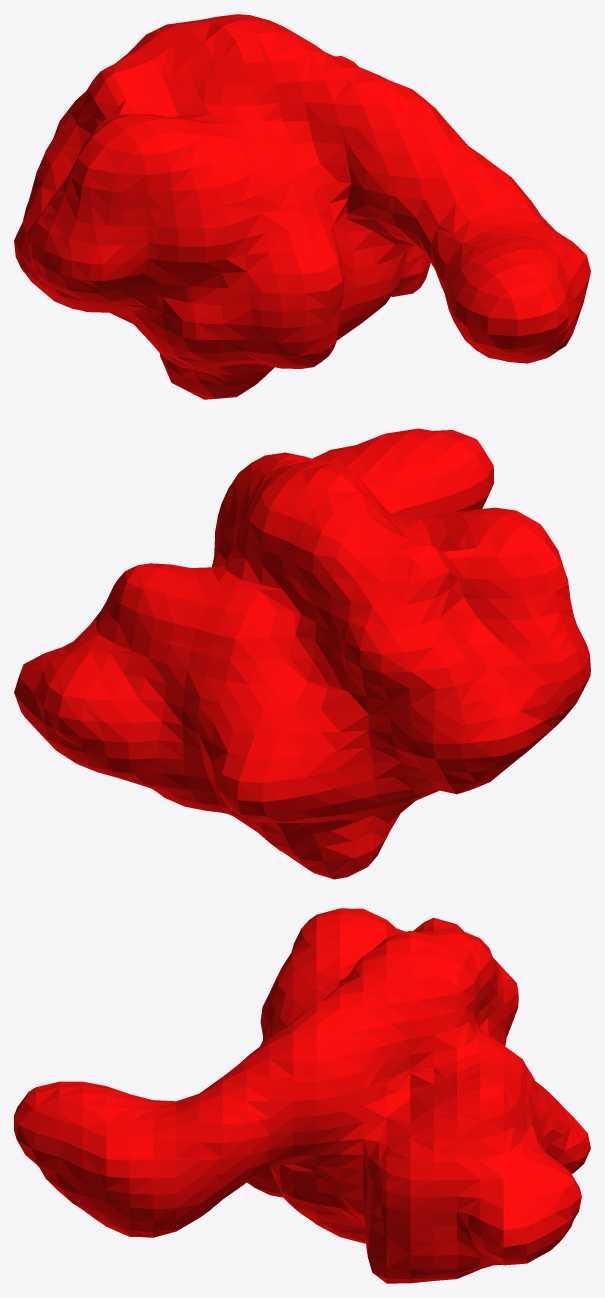
The model's file is ubiJ_coarse.dae.
3 views of the same model, one above another, from view 1: azimuth 30°, elevation 25°; view 2: azimuth 150°, elevation 25°; view 3: azimuth 270°, elevation 25° (orthographic). The views are drawn at different scales.
Parts seen in each view (by area): view 1: ubiJ; view 2: ubiJ; view 3: ubiJ.
Part boxes in pixels (left/top/right/bottom): ubiJ: left=14, top=14, right=590, bottom=399; ubiJ: left=14, top=428, right=590, bottom=879; ubiJ: left=14, top=908, right=590, bottom=1283.
Bounding box in the file's own units: 56.94 × 43.87 × 67.54.
